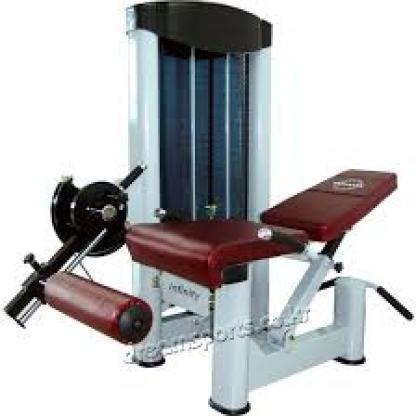reg curl machine: (3, 3, 414, 415)
